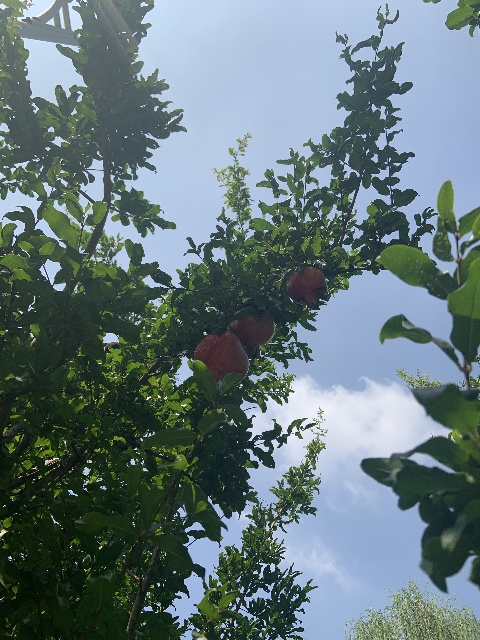ripe: (193, 330, 249, 386), (228, 315, 275, 356), (286, 266, 327, 308)
